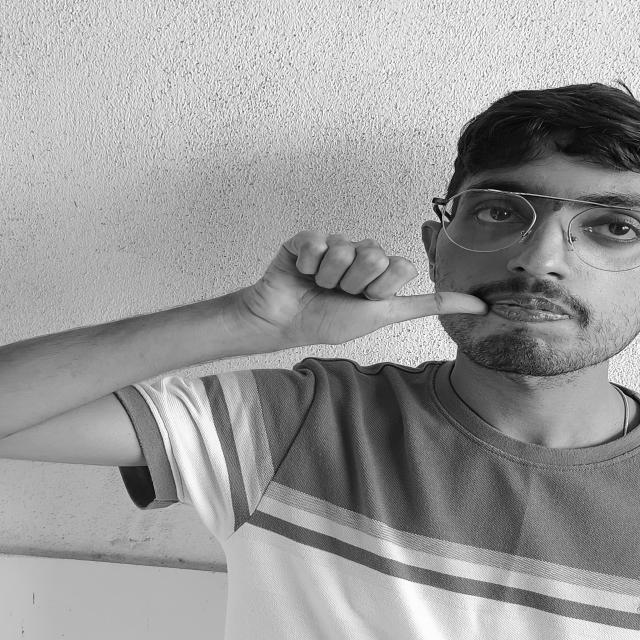Drink: (224, 205, 497, 365)
